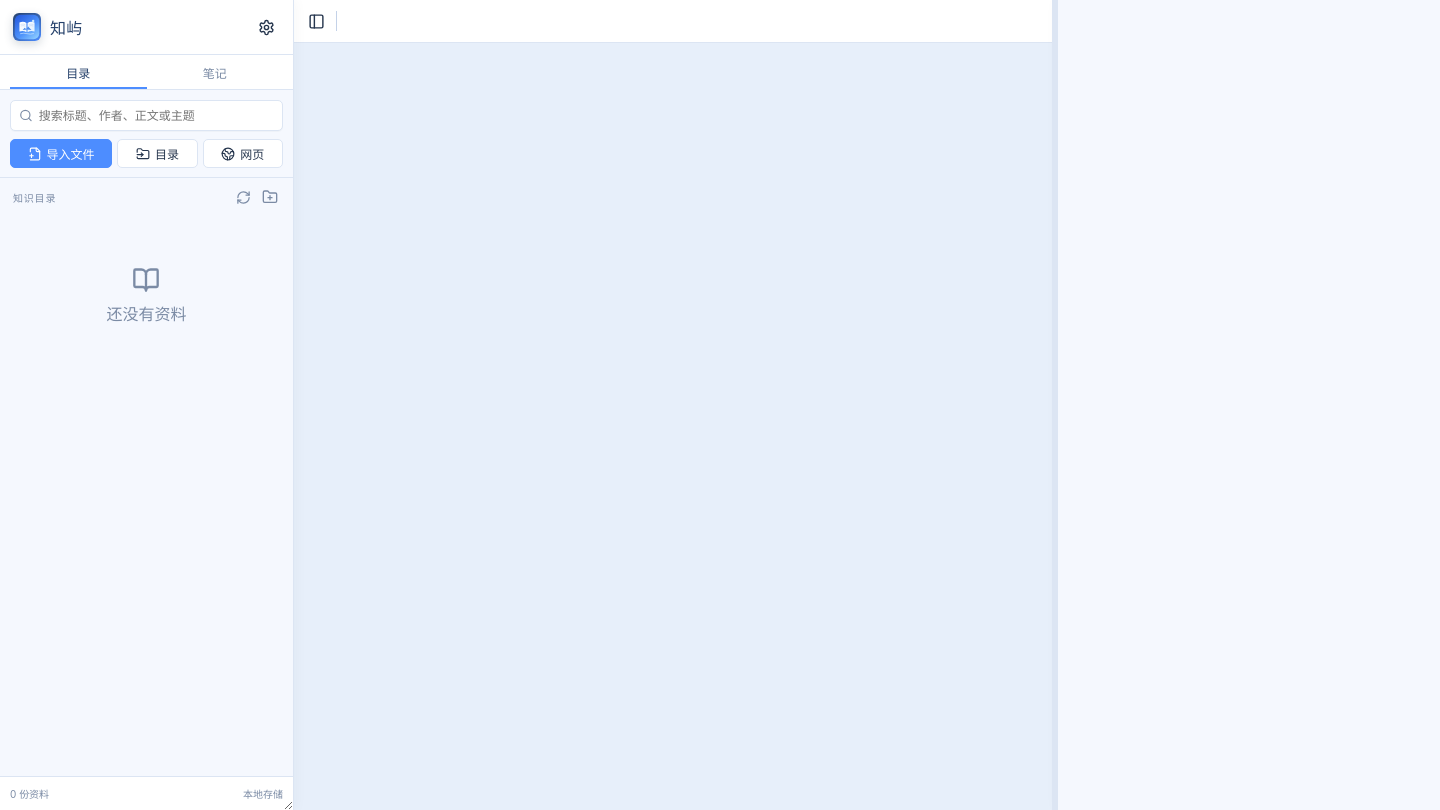
Test: shows successful documents and skipped-file details, then clears resolved warnings
Later steps or results of the test are not shown.
Click the button named "刷新目录": click(244, 197) [231,184,256,210]
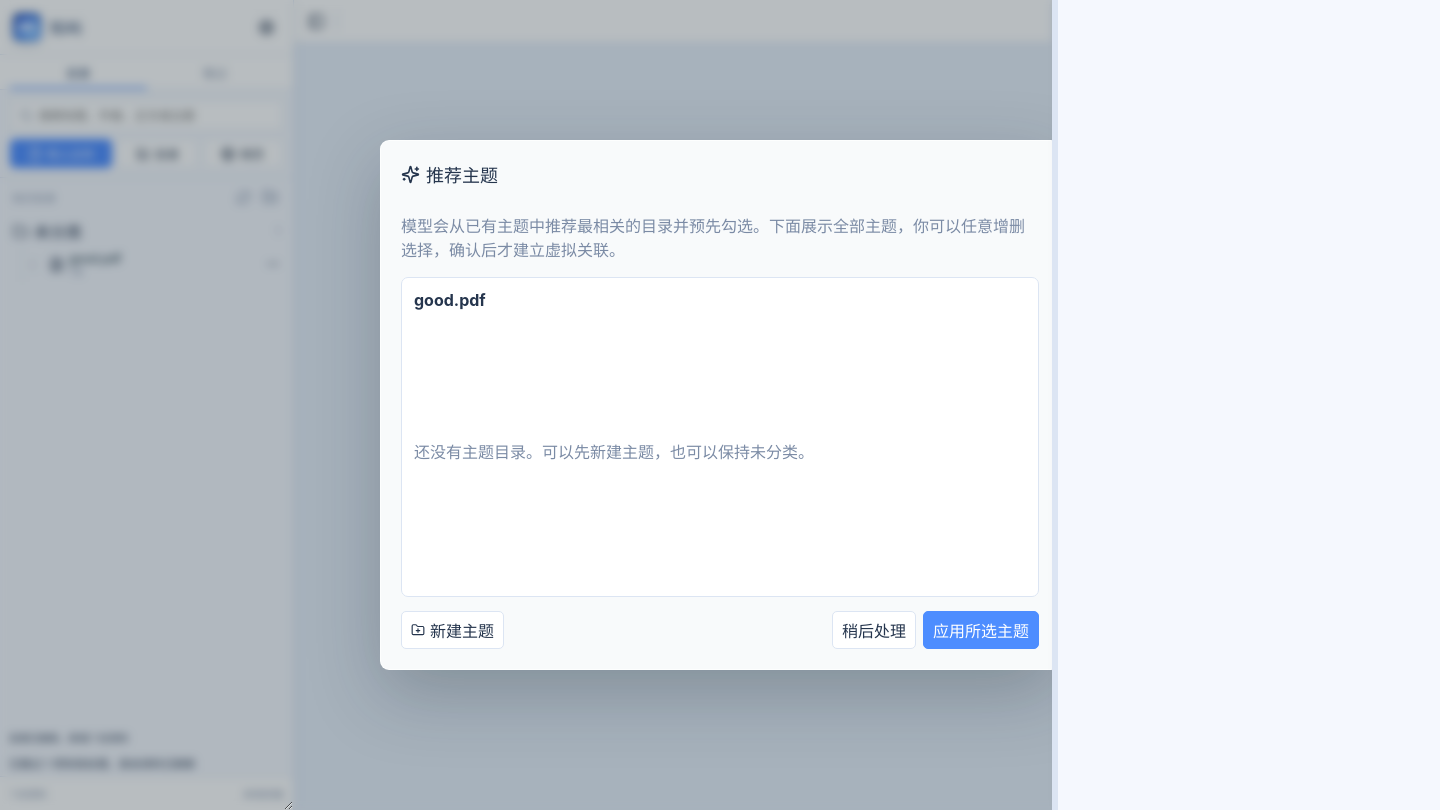
Check: the text "目录已刷新，新增 1 份资料" is shown, box [9,732,129,744]
